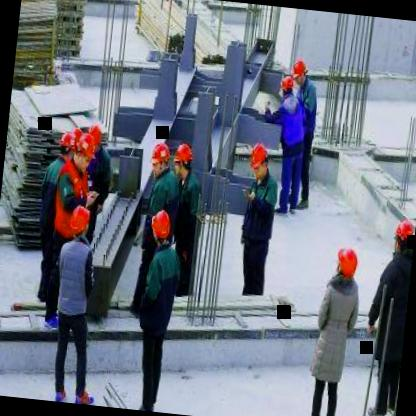helmet: (330, 239, 362, 282), (68, 128, 96, 174), (64, 201, 94, 240), (389, 214, 415, 258), (246, 139, 270, 183), (148, 209, 172, 250), (172, 140, 196, 180), (147, 138, 170, 179), (56, 128, 78, 165), (84, 122, 104, 160), (277, 74, 299, 100), (292, 58, 312, 84)
